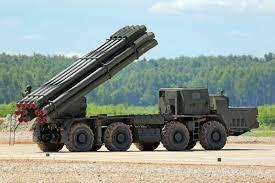MIL_SAM_TEL: (15, 21, 263, 153)
